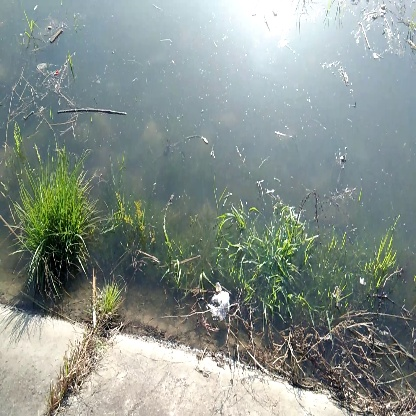grass: (12, 172, 97, 282)
plastic-bag: (203, 283, 238, 328)
